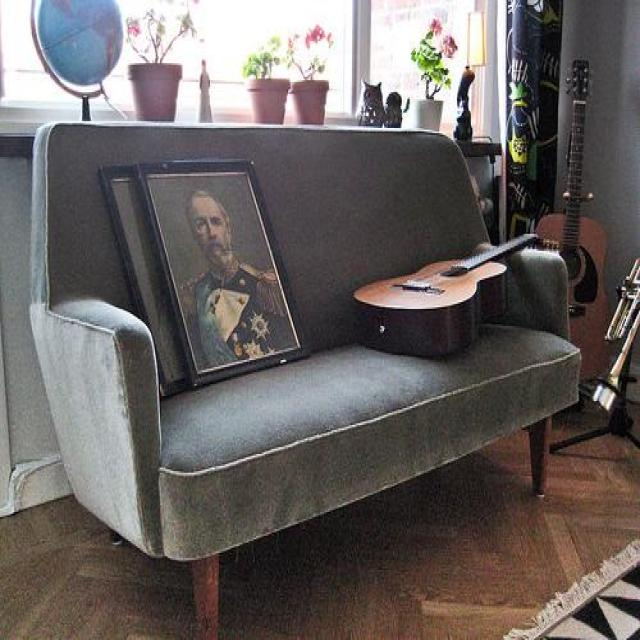sofa: (27, 121, 582, 640)
